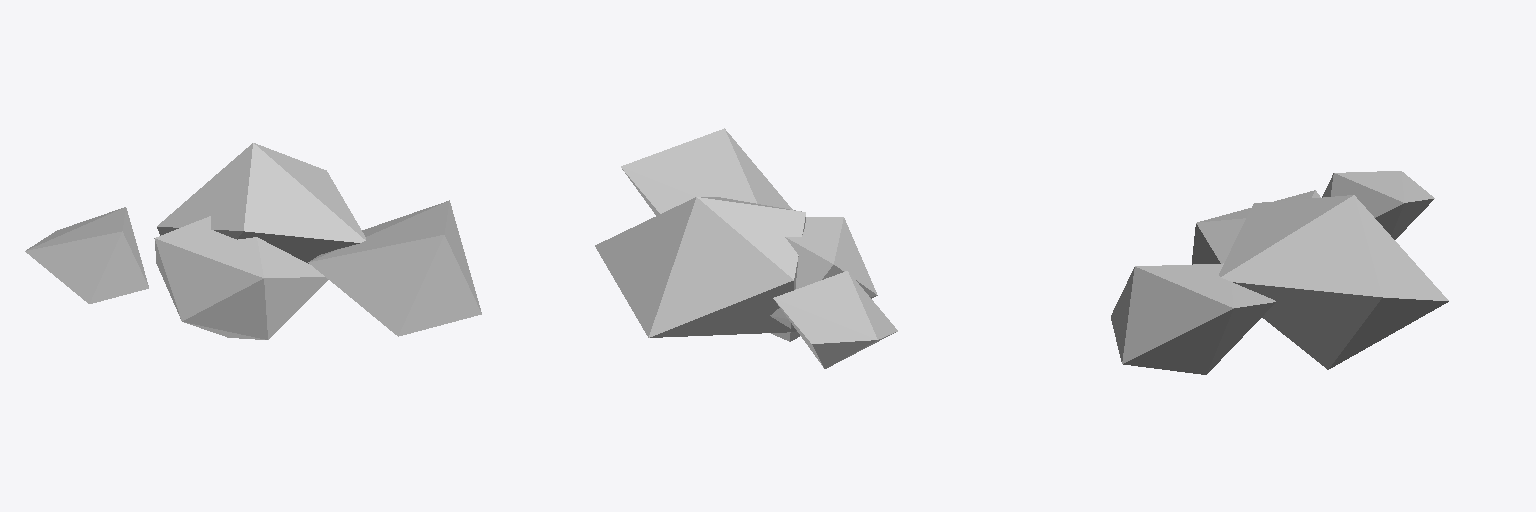
File: small_rocks.obj
3 renders of one model, left to right at view 1: azimuth 30°, elevation 25°; view 2: azimuth 150°, elevation 25°; view 3: azimuth 270°, elevation 25°, orthographic.
Parts seen in each view (by area): view 1: rock_sm2_01, rock_sm2_02, rock_sm_02; view 2: rock_sm2_01, rock_sm2_02, rock_sm_02; view 3: rock_sm2_01, rock_sm2_02, rock_sm_02.
Boxes of the visible parts, x1,y1,x2,y2 form: rock_sm2_01: [154, 143, 365, 339]; rock_sm2_02: [308, 200, 481, 336]; rock_sm_02: [25, 207, 148, 303]; rock_sm2_01: [595, 197, 877, 341]; rock_sm2_02: [621, 128, 792, 215]; rock_sm_02: [773, 271, 897, 368]; rock_sm2_01: [1192, 190, 1448, 369]; rock_sm2_02: [1111, 263, 1275, 374]; rock_sm_02: [1322, 171, 1434, 239].
Bounding box in the file's own units: 0.6857 × 0.2989 × 0.5898.